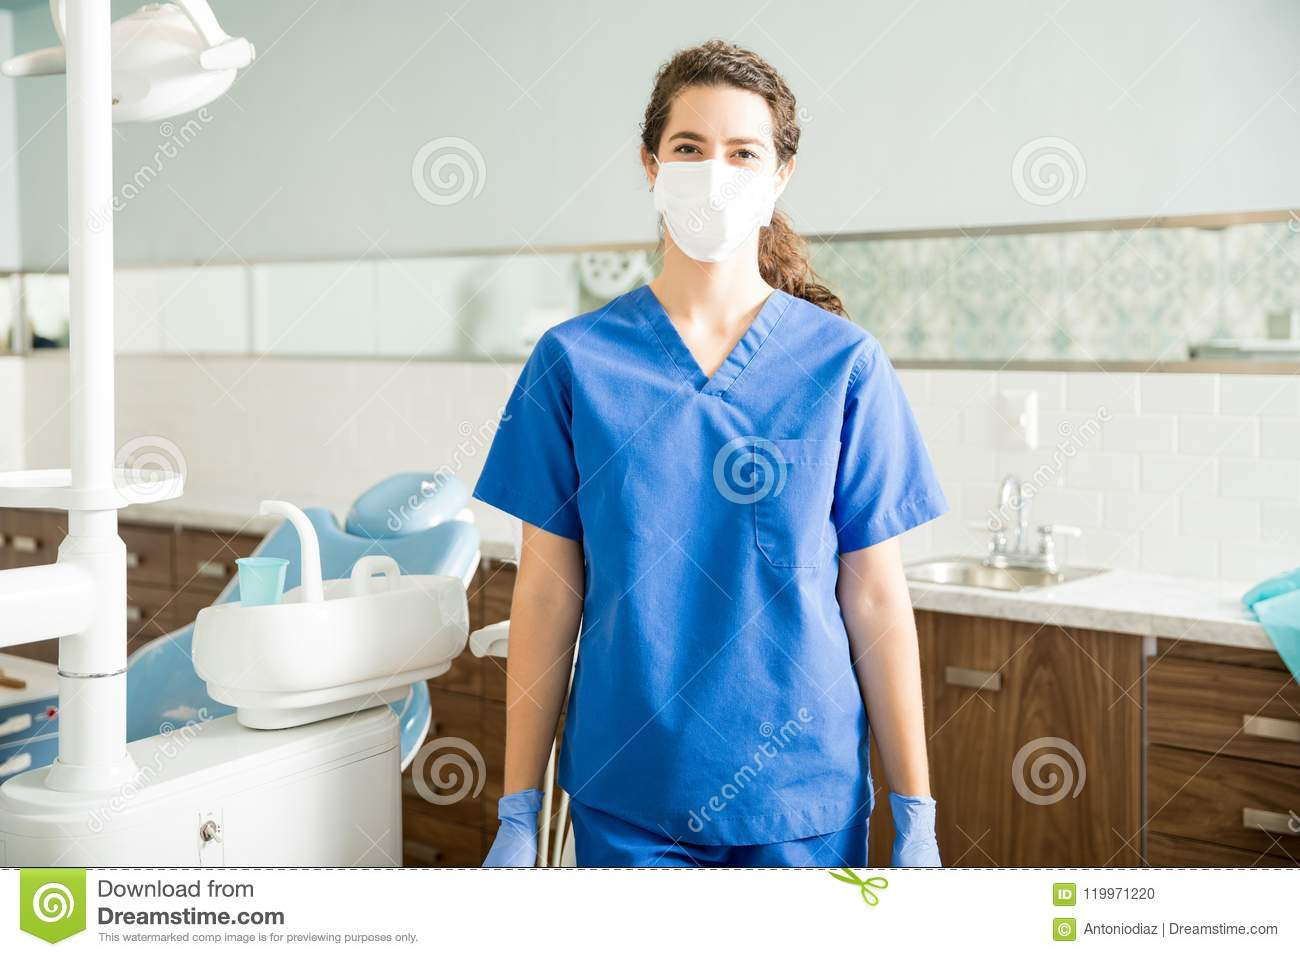mask: (647, 152, 772, 269)
